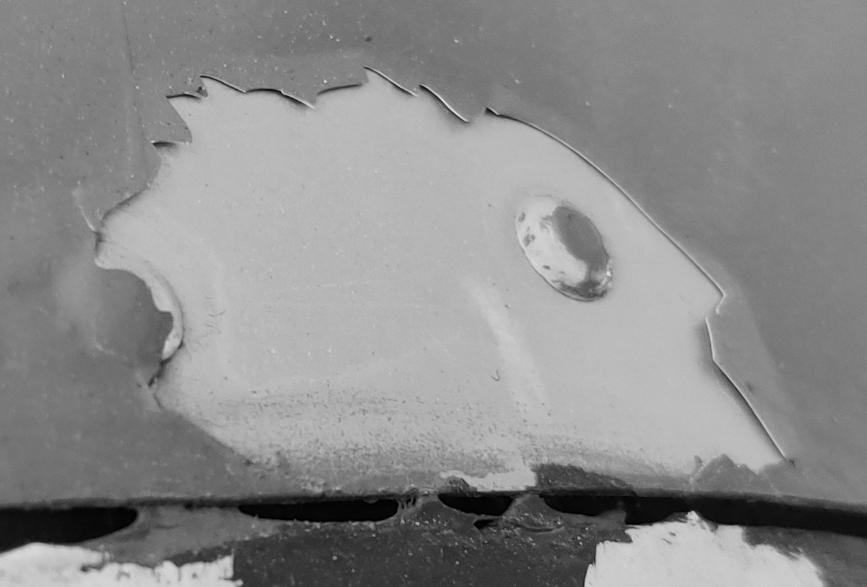paint-off: (1, 0, 867, 587)
